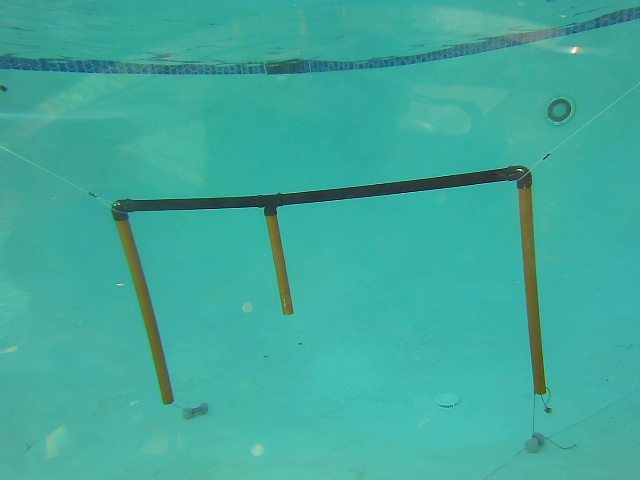Gate: (111, 216, 177, 409), (513, 181, 551, 398), (261, 209, 297, 317)
